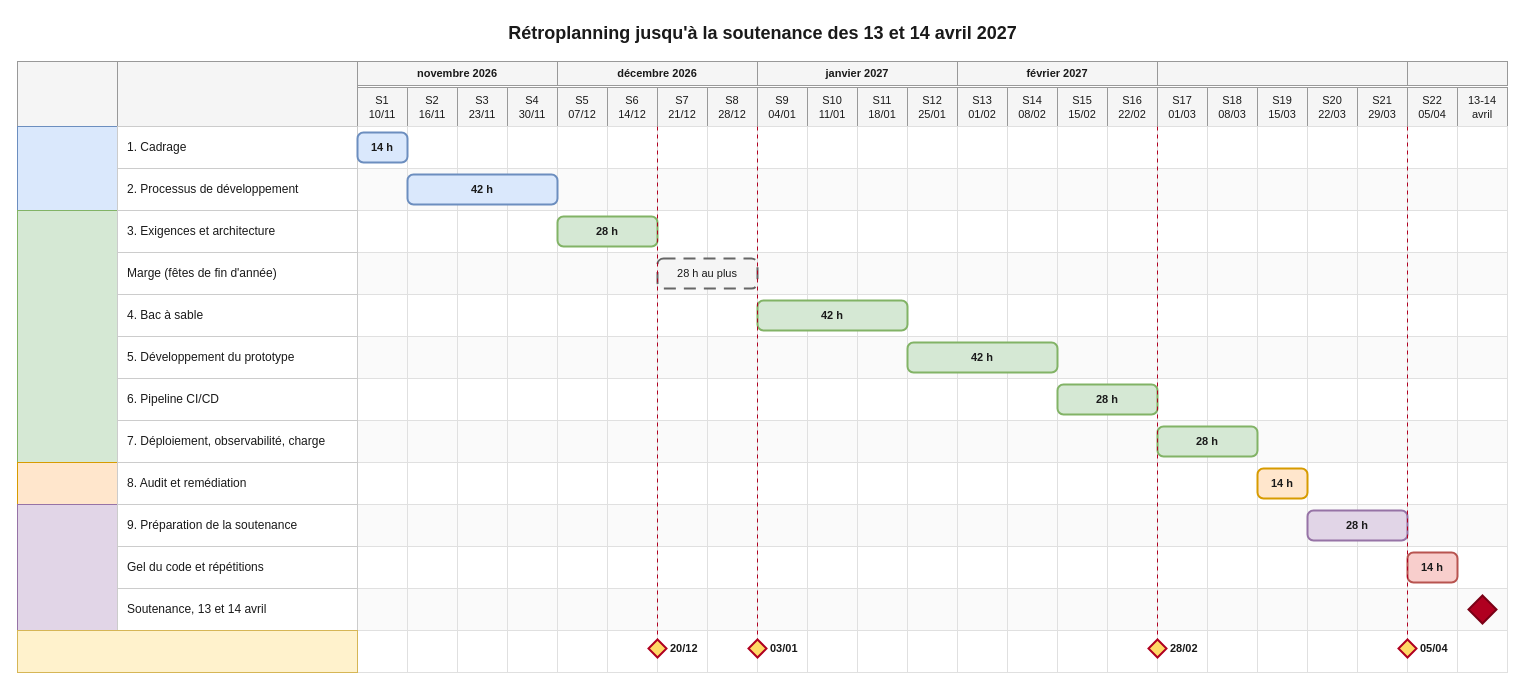
Image size: 1525x691. Some labels were removed from this diagram. Here are the shapes that lost their labels. From the top down, the centre of each, then its label:
point 1282,73: mars 2027
point 1457,73: avril 2027
point 67,94: Phase
point 237,94: Étape
point 67,168: Phase 1 Processus
point 67,336: Phase 2 Prototype
point 67,483: Phase 3 Audit
point 67,567: Soutenance
point 187,651: Échéances bloquantes
